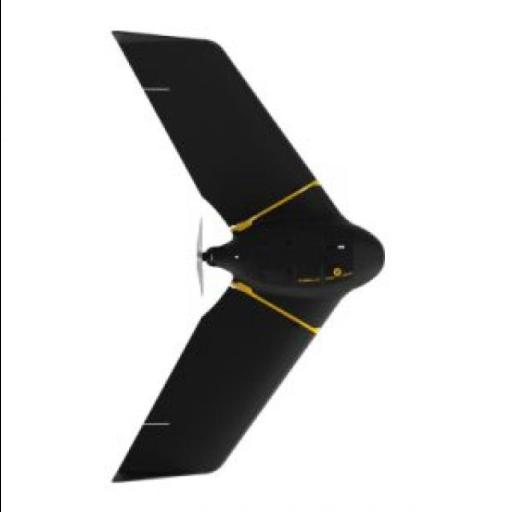uav: (72, 13, 390, 512)
